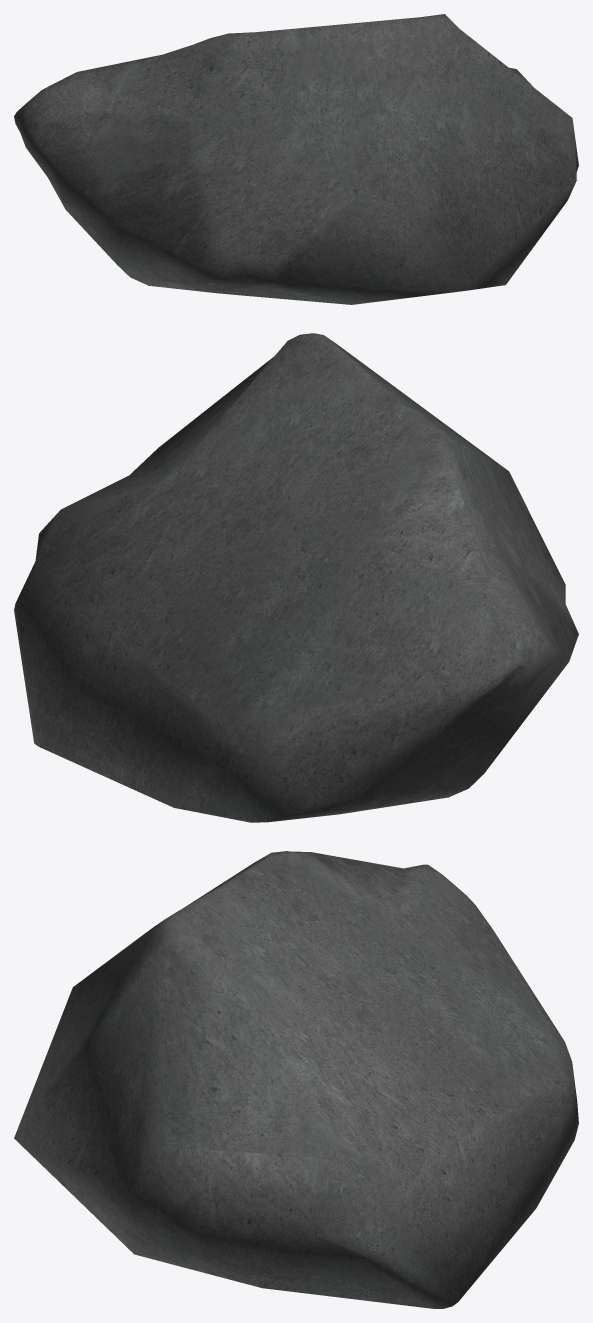
File: rock.004.obj
The picture shows the model from 3 angles, top to bottom: view 1: azimuth 30°, elevation 25°; view 2: azimuth 150°, elevation 25°; view 3: azimuth 270°, elevation 25°; orthographic projection. The views are drawn at different scales.
Bounding box in the file's own units: 2.23 × 1.34 × 2.05.
Materials: 1 (1 with a texture image).
